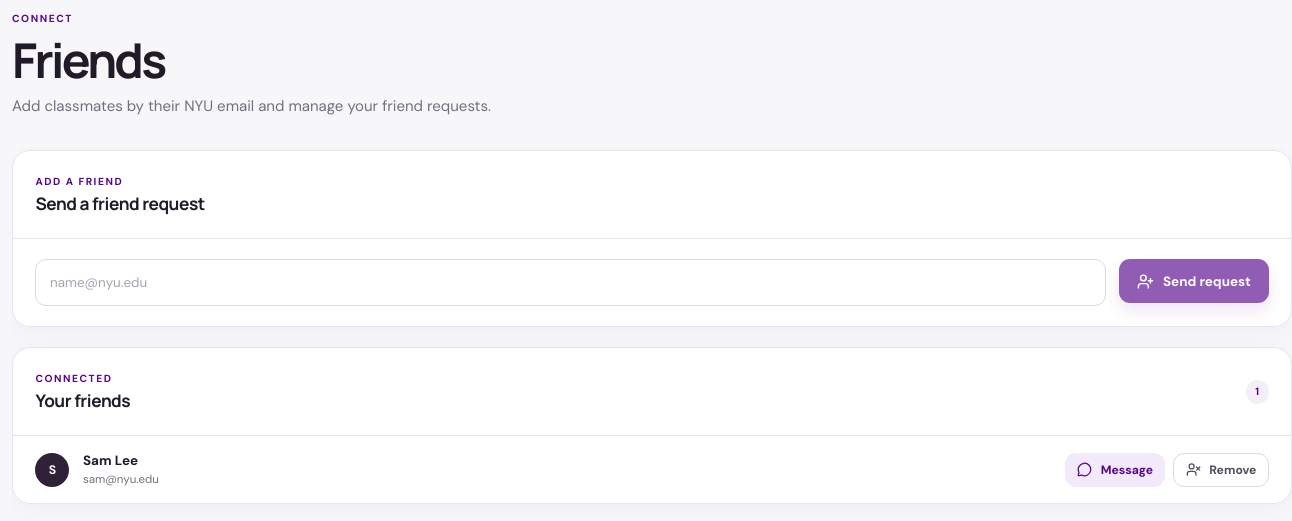
Test: removing a friend › the remove button asks for confirmation before anything happens
Expected: the text "Sam Lee" is shown, top-left (83, 452), bottom-right (138, 470)
Expected: the text "Remove Sam Lee as a friend?" is not shown
Click the button with aria-label "remove sam lee as a friend" at [1221, 470], box top-left (1173, 453), bottom-right (1269, 487)
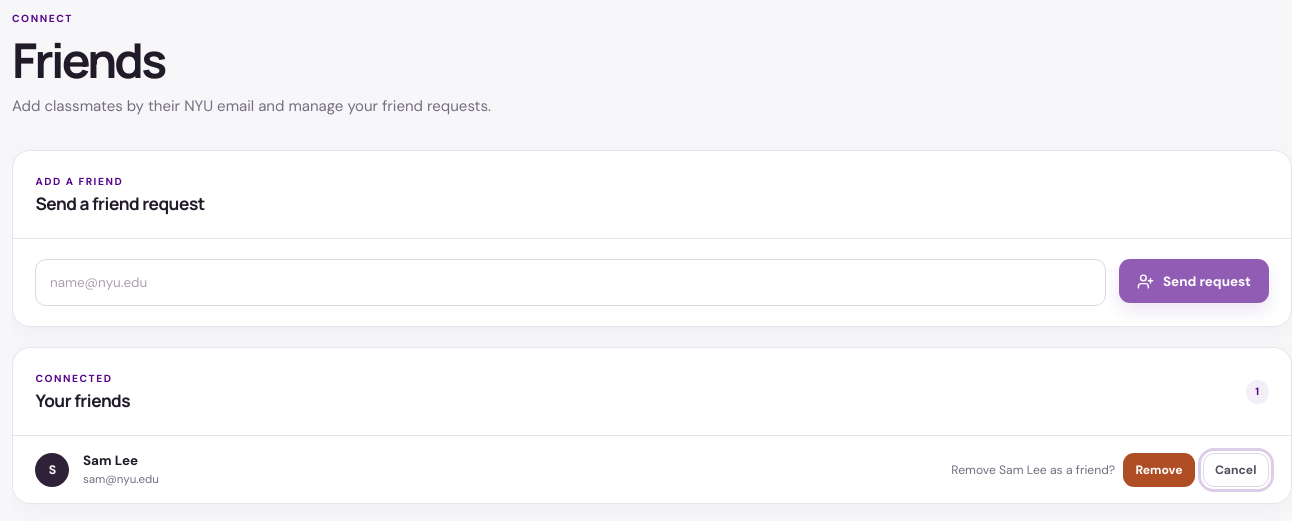
Now the text "Remove Sam Lee as a friend?" is shown, box top-left (951, 462), bottom-right (1115, 478)
